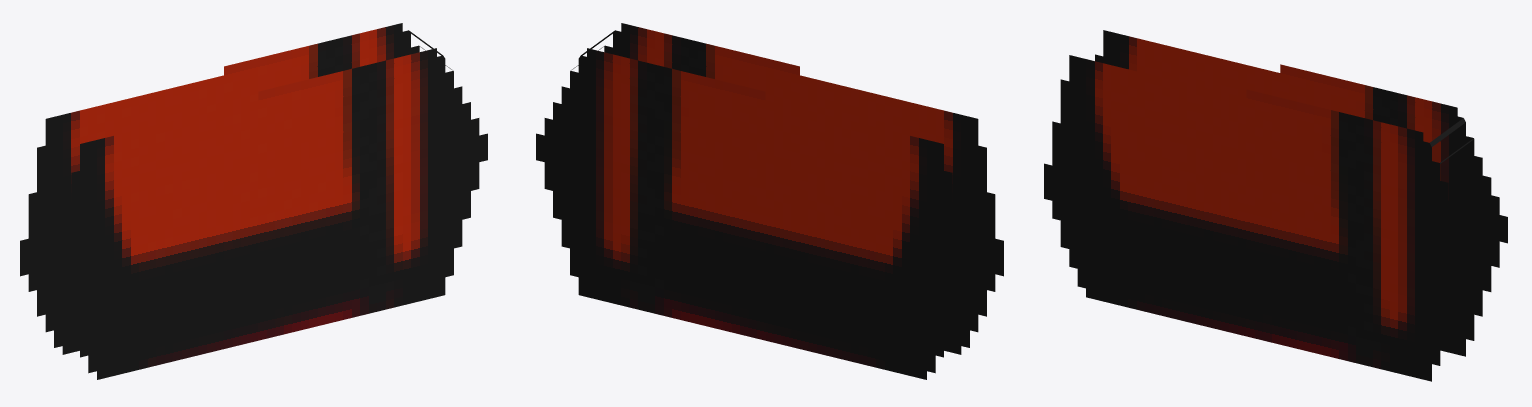
File: grenade.FBX
3 views of the same model, side by side, from view 1: azimuth 30°, elevation 25°; view 2: azimuth 150°, elevation 25°; view 3: azimuth 330°, elevation 25° (orthographic).
Visible parts, largest first — view 1: grenade; view 2: grenade; view 3: grenade.
Part boxes in pixels (bbox=[...]): grenade: bbox=[20, 23, 487, 379]; grenade: bbox=[536, 23, 1003, 379]; grenade: bbox=[1044, 30, 1507, 381].
Bounding box in the file's own units: 52.86 × 30.47 × 7.
Materials: 1 (1 with a texture image).
